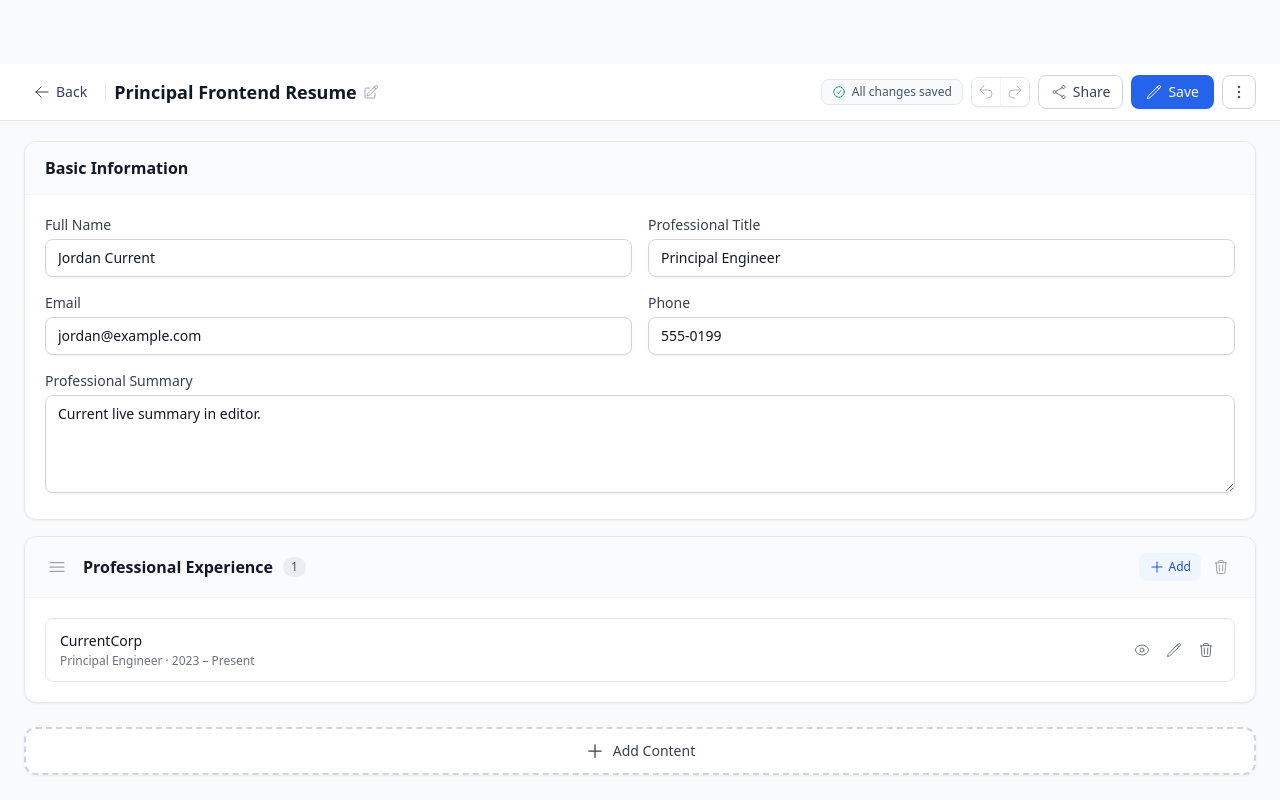
Version History service, drawer, preview, restore & Undo toast › ResumeEditor Version History UI flow › lists versions with relative times, renders read-only preview with resume's current template, confirms restore, reloads editor, and supports Undo toast
This screenshot has width=1280, height=800.
# Open Version history from toolbar overflow menu
Click the button with test id "toolbar-overflow-btn": [1239, 92] box [1222, 75, 1256, 109]
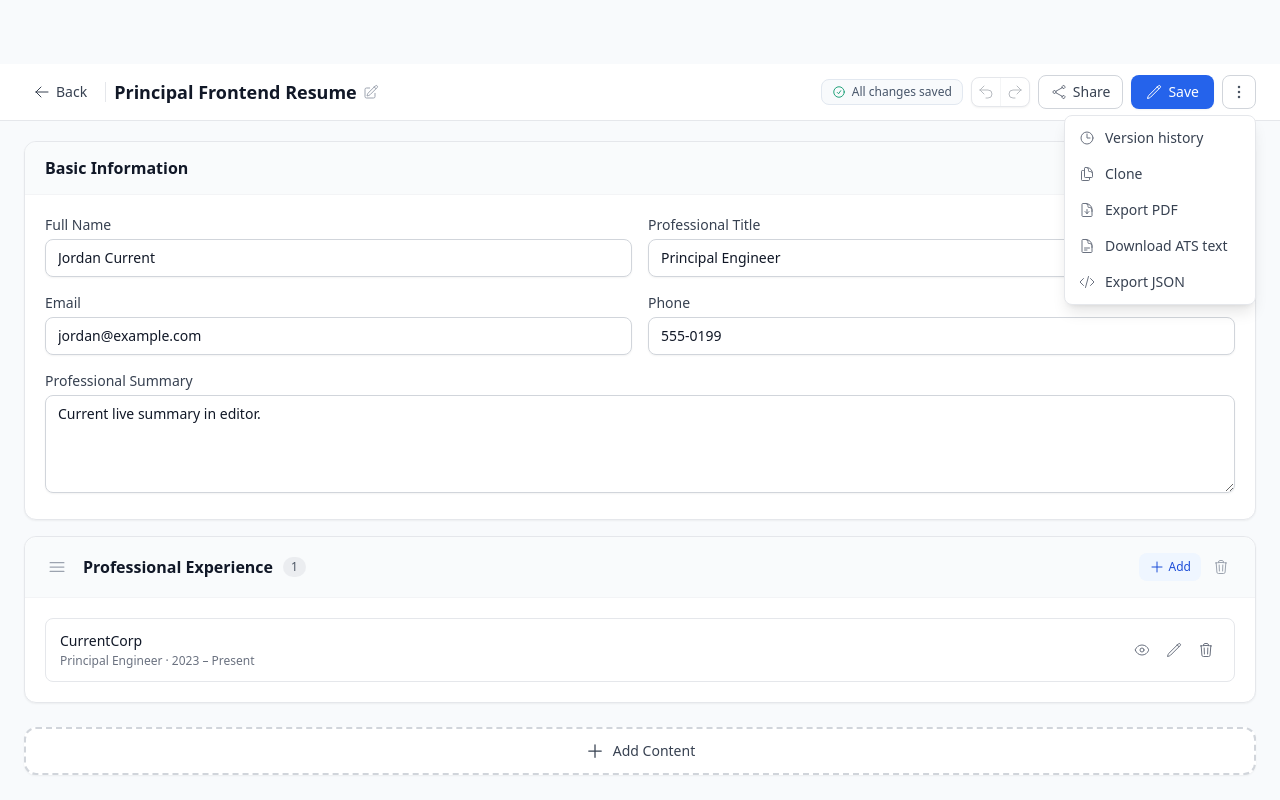
Click the menu item "Version history": [1160, 138] box [1065, 120, 1255, 156]
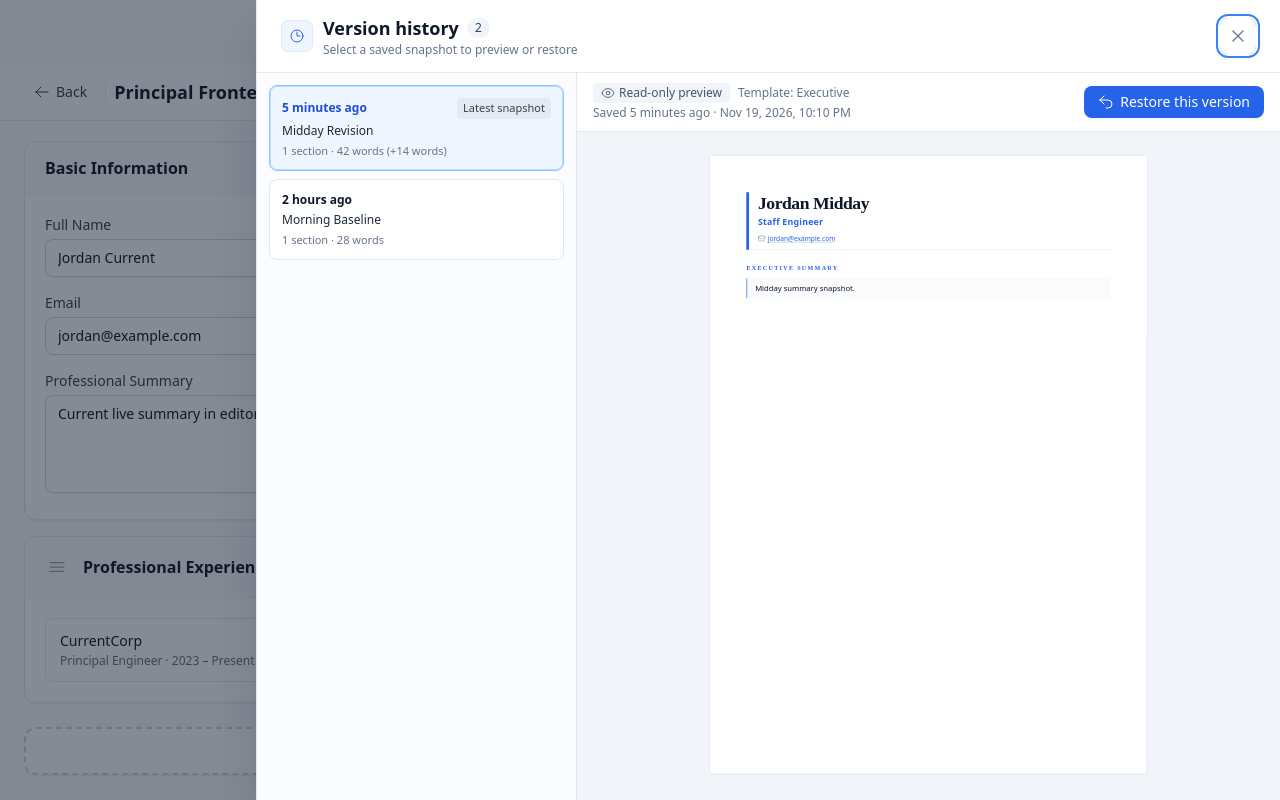
Now the text "5 minutes ago" is shown, box [282, 100, 367, 116]
Now the text "2 hours ago" is shown, box [282, 192, 352, 208]
Now the text "1 section · 42 words (+14 words)" is shown, box [282, 142, 447, 158]
Press ArrowDown in the button with test id "version-history-item-1", box [269, 85, 564, 171]
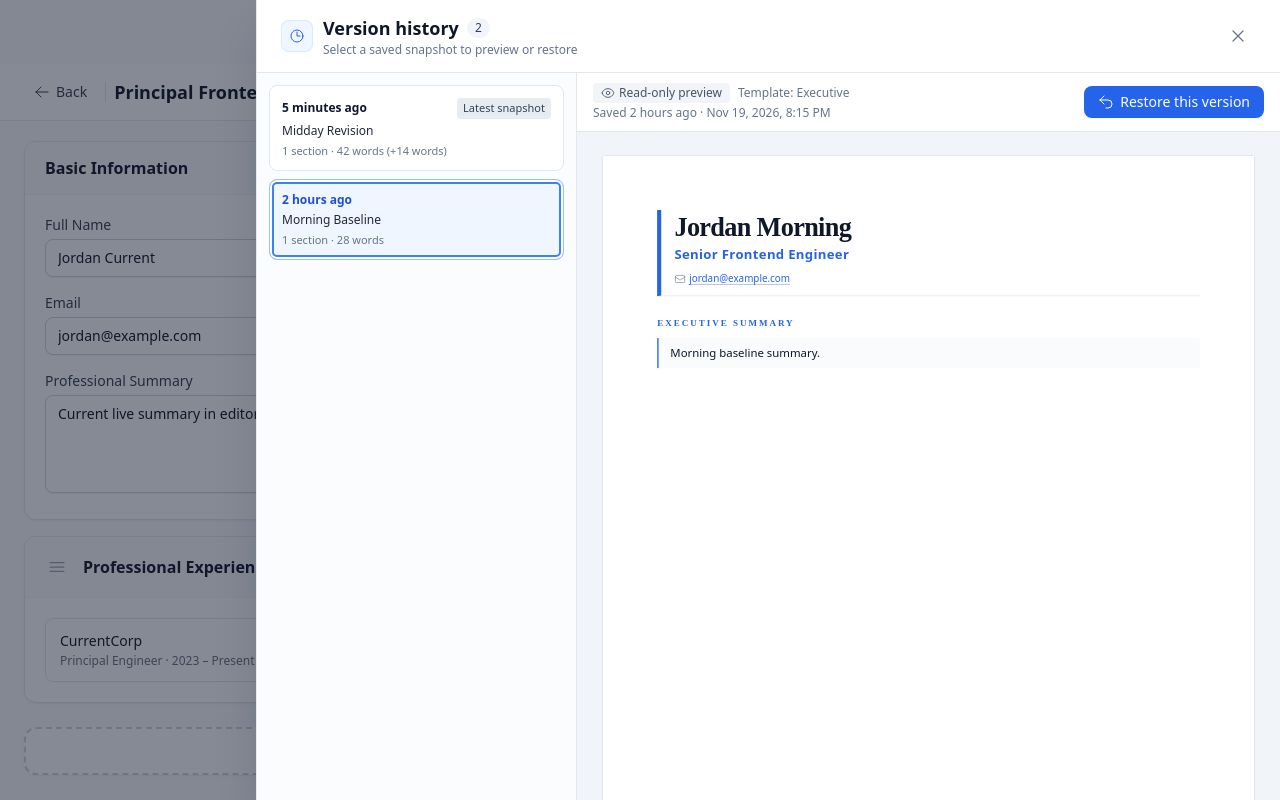
Now the text "Jordan Morning" is shown, box [674, 212, 851, 241]
Click the button with test id "restore-version-btn": [1174, 102] box [1084, 86, 1264, 118]
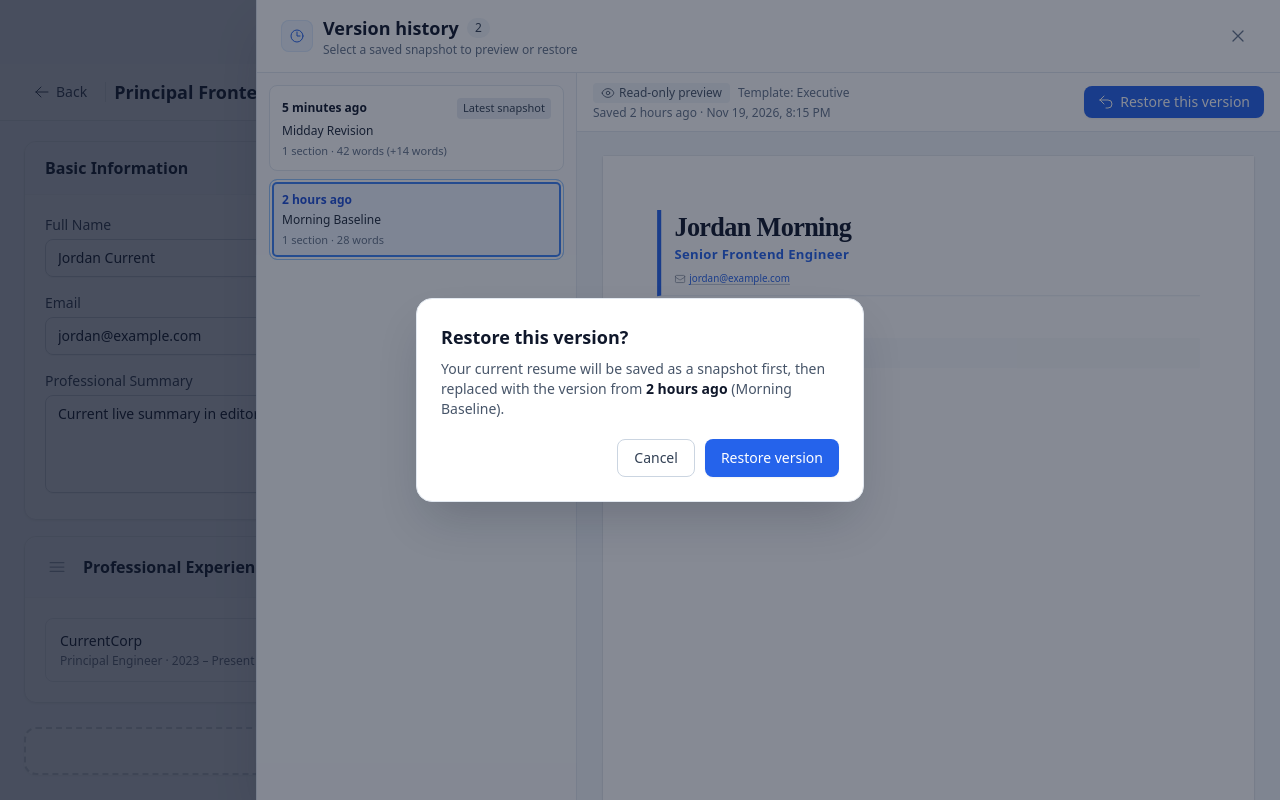
Now the dialog with test id "restore-version-confirm-dialog" shows "Restore this version?", box [441, 325, 628, 349]
Now the dialog with test id "restore-version-confirm-dialog" shows "Morning Baseline", box [441, 379, 792, 418]
# Confirm restore
Click the button with test id "confirm-restore-version-btn": [772, 458] box [705, 439, 839, 477]
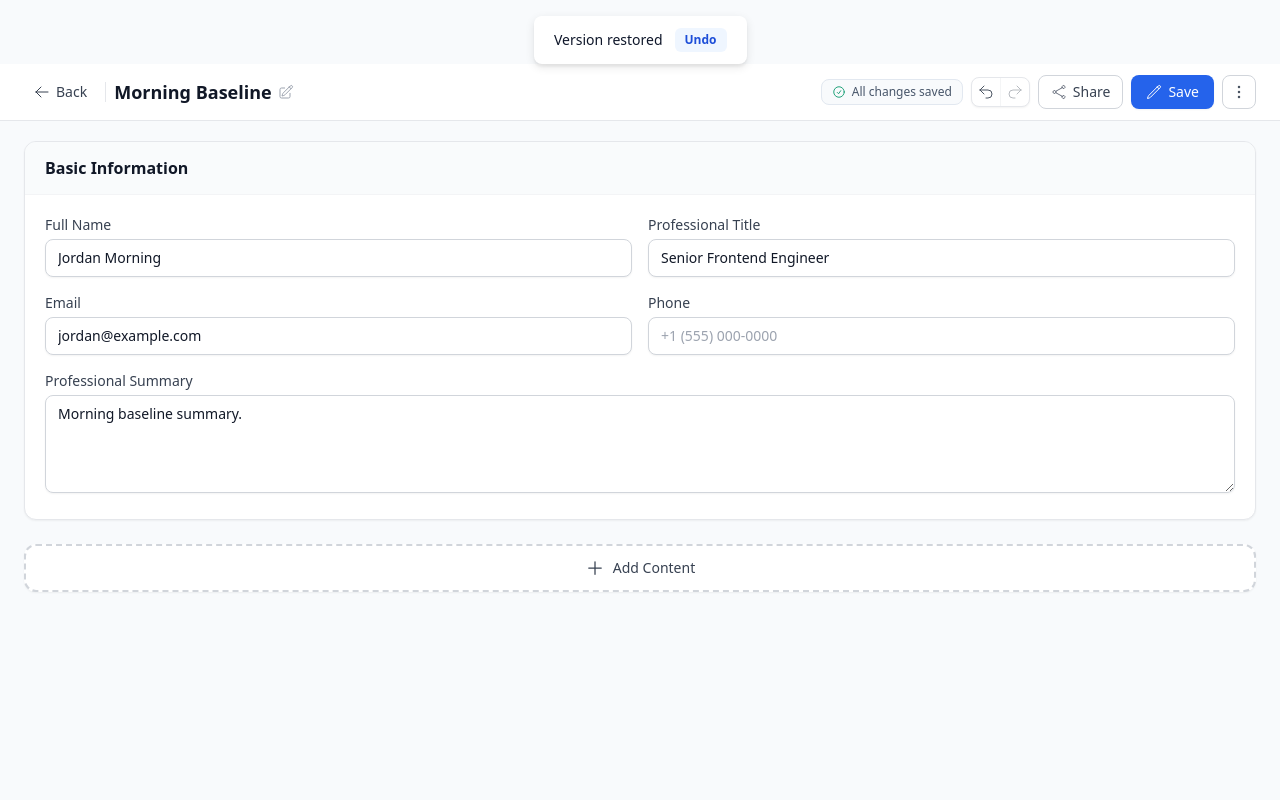
Now the dialog with test id "version-history-drawer" is gone
Now the field labelled "Full Name" holds "Jordan Morning", box [45, 239, 632, 277]
Now the text box labelled "Professional Summary" holds "Morning baseline summary.", box [45, 395, 1235, 493]
Click the button with test id "undo-restore-toast-btn": [700, 40] box [674, 28, 726, 52]
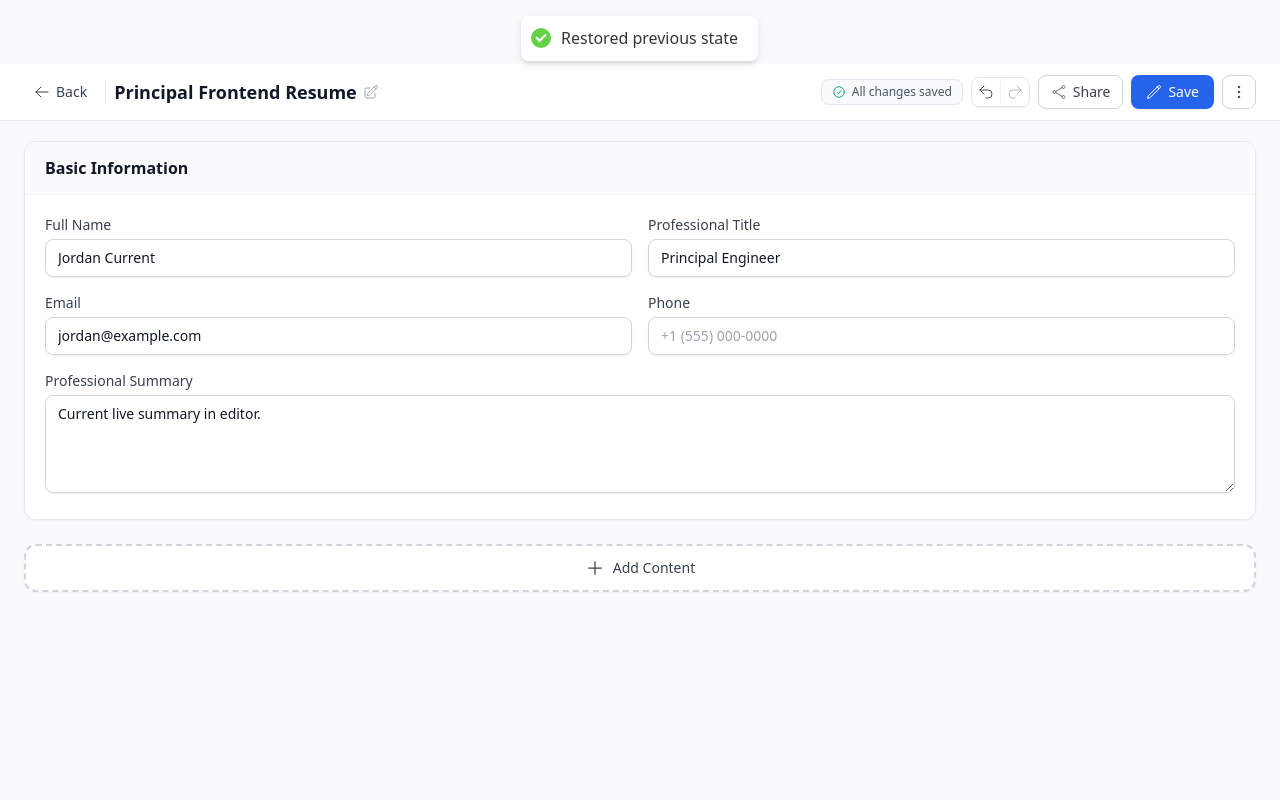
Now the field labelled "Full Name" holds "Jordan Current", box [45, 239, 632, 277]
Now the text box labelled "Professional Summary" holds "Current live summary in editor.", box [45, 395, 1235, 493]
